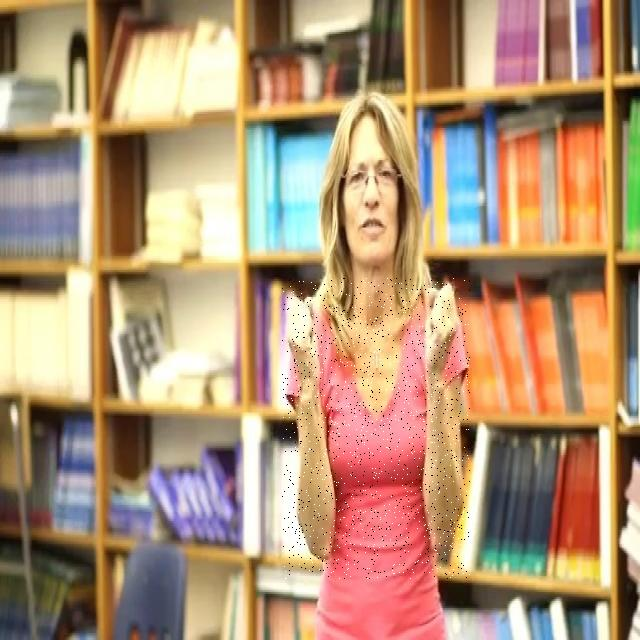cold: (282, 278, 470, 579)
